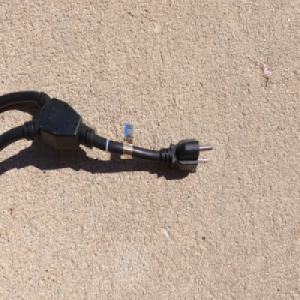Wire: (0, 87, 215, 175)
